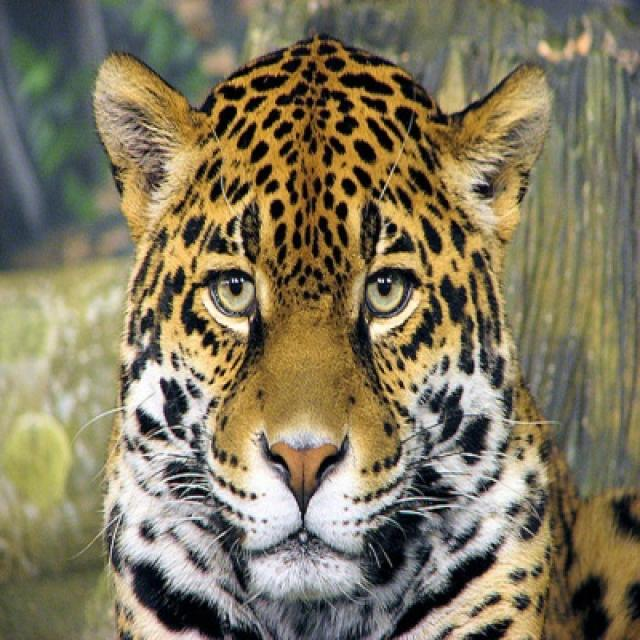Jaguar: (93, 34, 638, 636)
